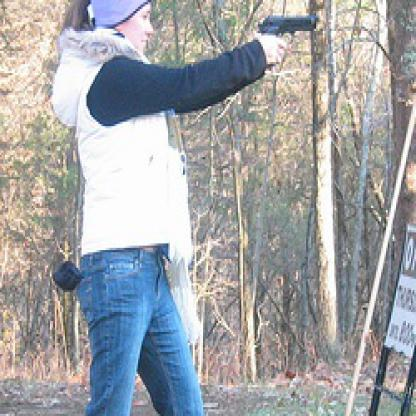gun: (254, 9, 320, 40)
